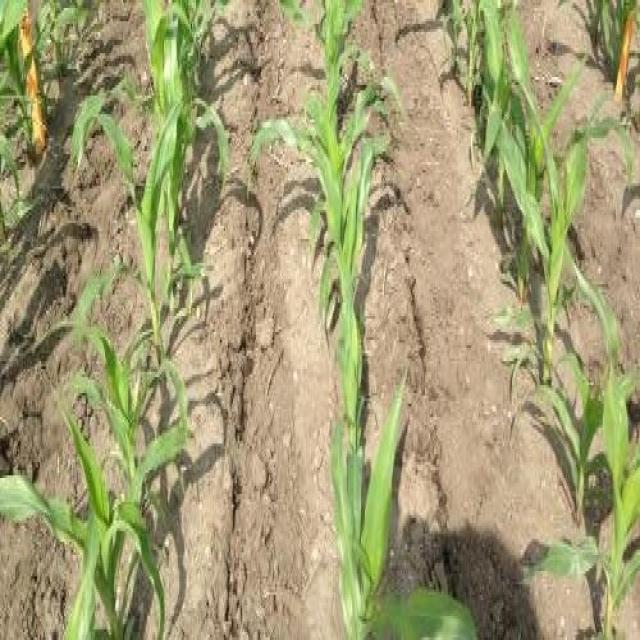row: (359, 0, 600, 640), (152, 0, 347, 640), (0, 1, 159, 640), (512, 1, 640, 458)
